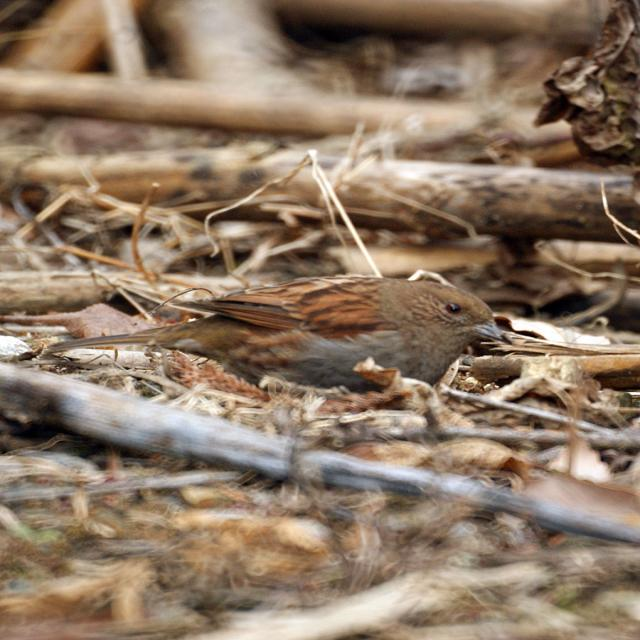bird: (73, 264, 515, 412)
